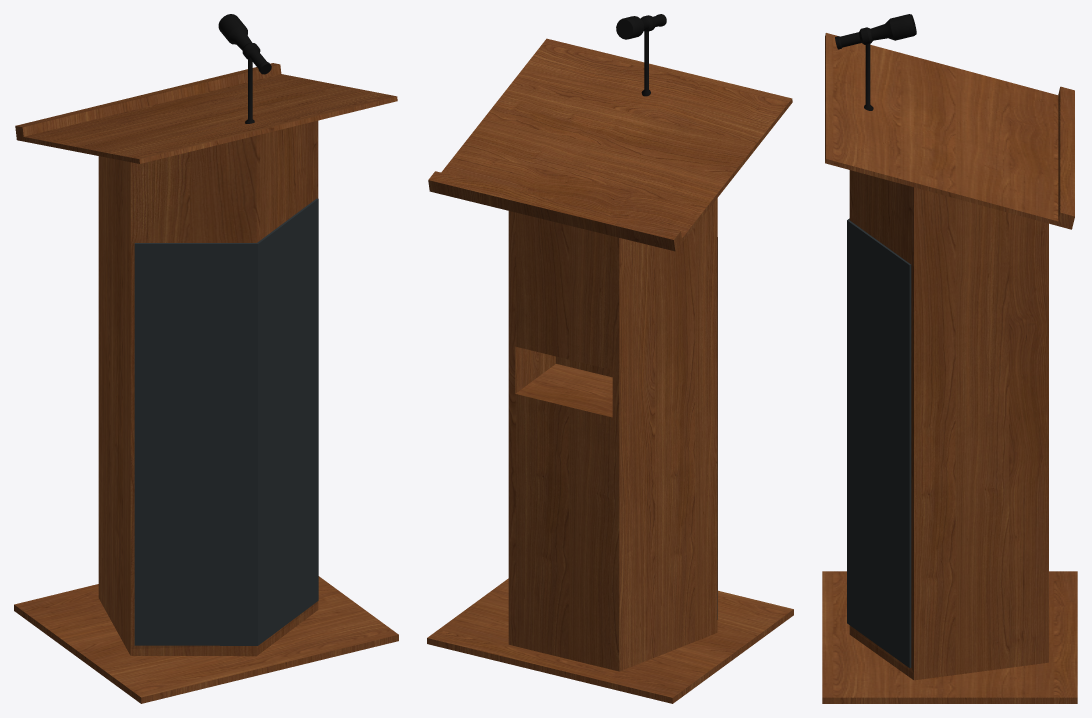
File: Presidential podium 3.fbx
3 views of the same model, side by side, from view 1: azimuth 30°, elevation 25°; view 2: azimuth 150°, elevation 25°; view 3: azimuth 270°, elevation 25° (orthographic). The views are drawn at different scales.
Visible parts, largest first — view 1: Presidential podium 3; view 2: Presidential podium 3; view 3: Presidential podium 3.
Boxes of the visible parts, x1,y1,x2,y2 form: Presidential podium 3: [14, 14, 398, 703]; Presidential podium 3: [427, 14, 793, 703]; Presidential podium 3: [822, 14, 1077, 703].
Size of the model in its own units: 59.38 by 138 by 50.73.
3 materials, 3 textured.
